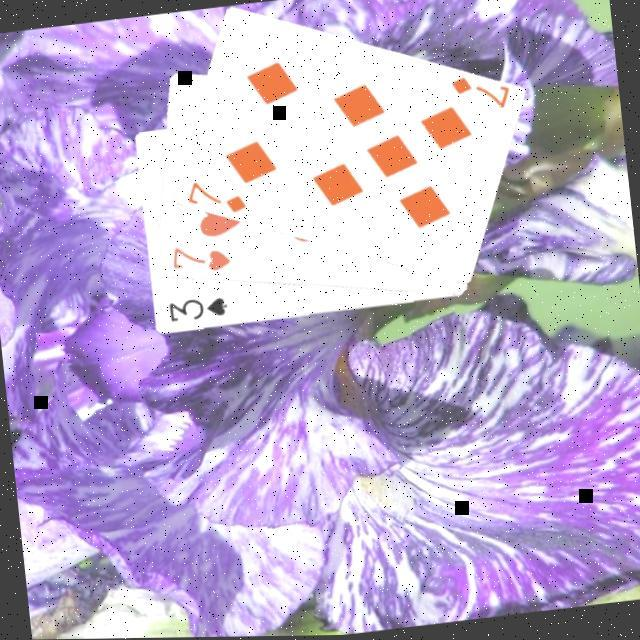3S: (163, 293, 230, 328)
7D: (444, 71, 512, 120), (182, 174, 249, 222)
7H: (166, 239, 233, 281)
